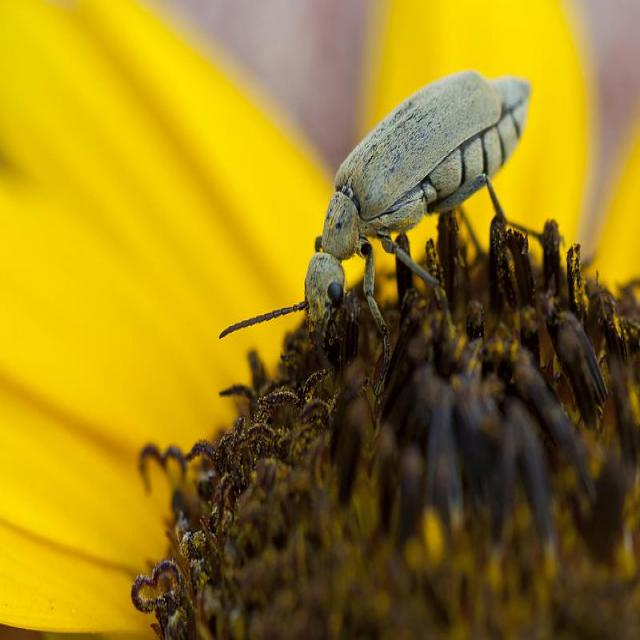BlisterBeetle-Adult-: (218, 59, 552, 384)
